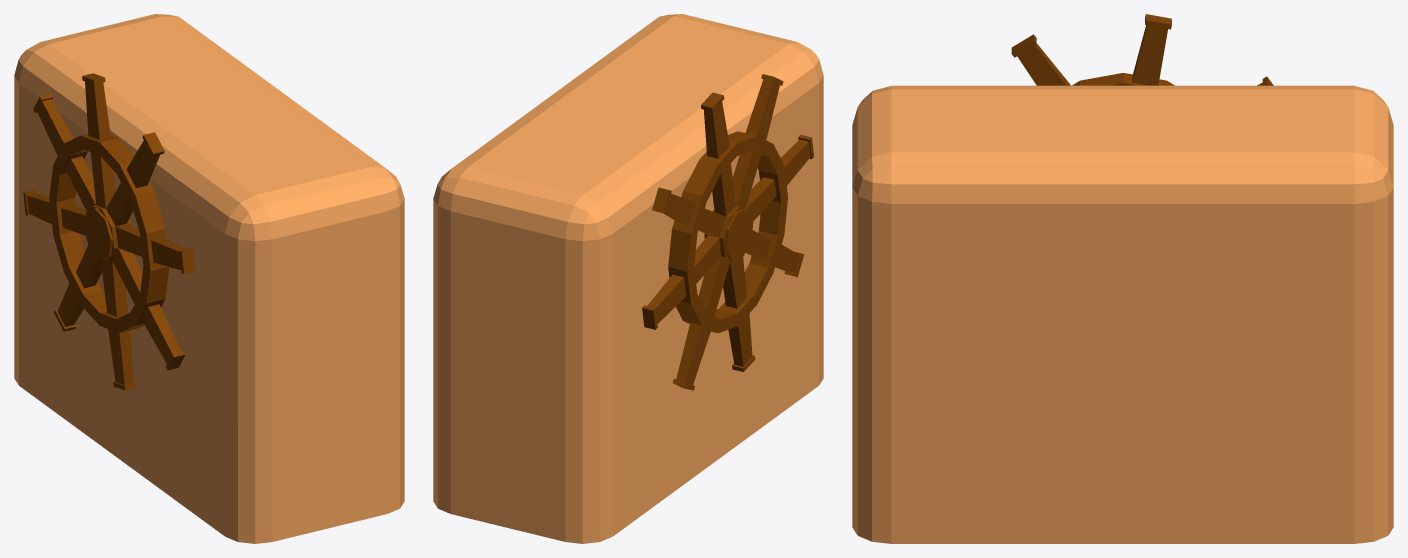
Rendered from timao.glb.
The picture shows the model from 3 angles, left to right: view 1: azimuth 30°, elevation 25°; view 2: azimuth 150°, elevation 25°; view 3: azimuth 270°, elevation 25°; orthographic projection. The views are drawn at different scales.
Visible parts, largest first — view 1: Circle.001, Circle; view 2: Circle.001, Circle; view 3: Circle.001, Circle.
Boxes of the visible parts, bbox=[...] form: Circle.001: bbox=[14, 14, 404, 543]; Circle: bbox=[23, 73, 195, 390]; Circle.001: bbox=[433, 14, 823, 543]; Circle: bbox=[642, 74, 814, 390]; Circle.001: bbox=[852, 85, 1393, 543]; Circle: bbox=[1011, 14, 1273, 85].
Size of the model in its own units: 2.28 by 4.13 by 4.77.
